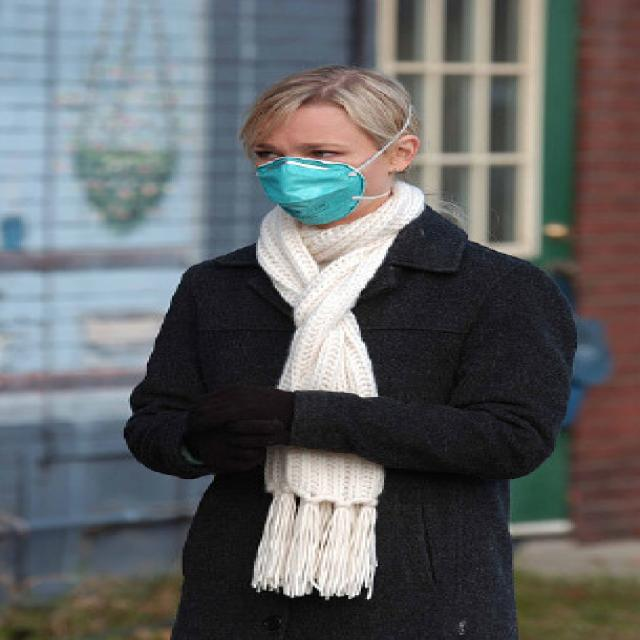mask: (250, 104, 374, 220)
